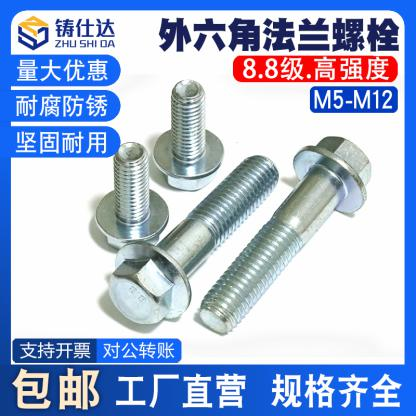FOD: (196, 133, 372, 336), (106, 154, 279, 326), (93, 140, 172, 258), (152, 74, 228, 190)
